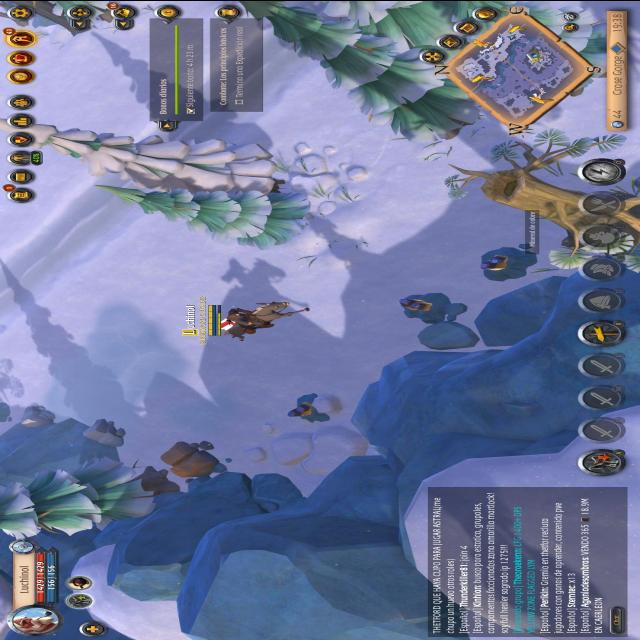piedra_cobre: (401, 291, 467, 321), (480, 249, 538, 281), (286, 392, 330, 421)
